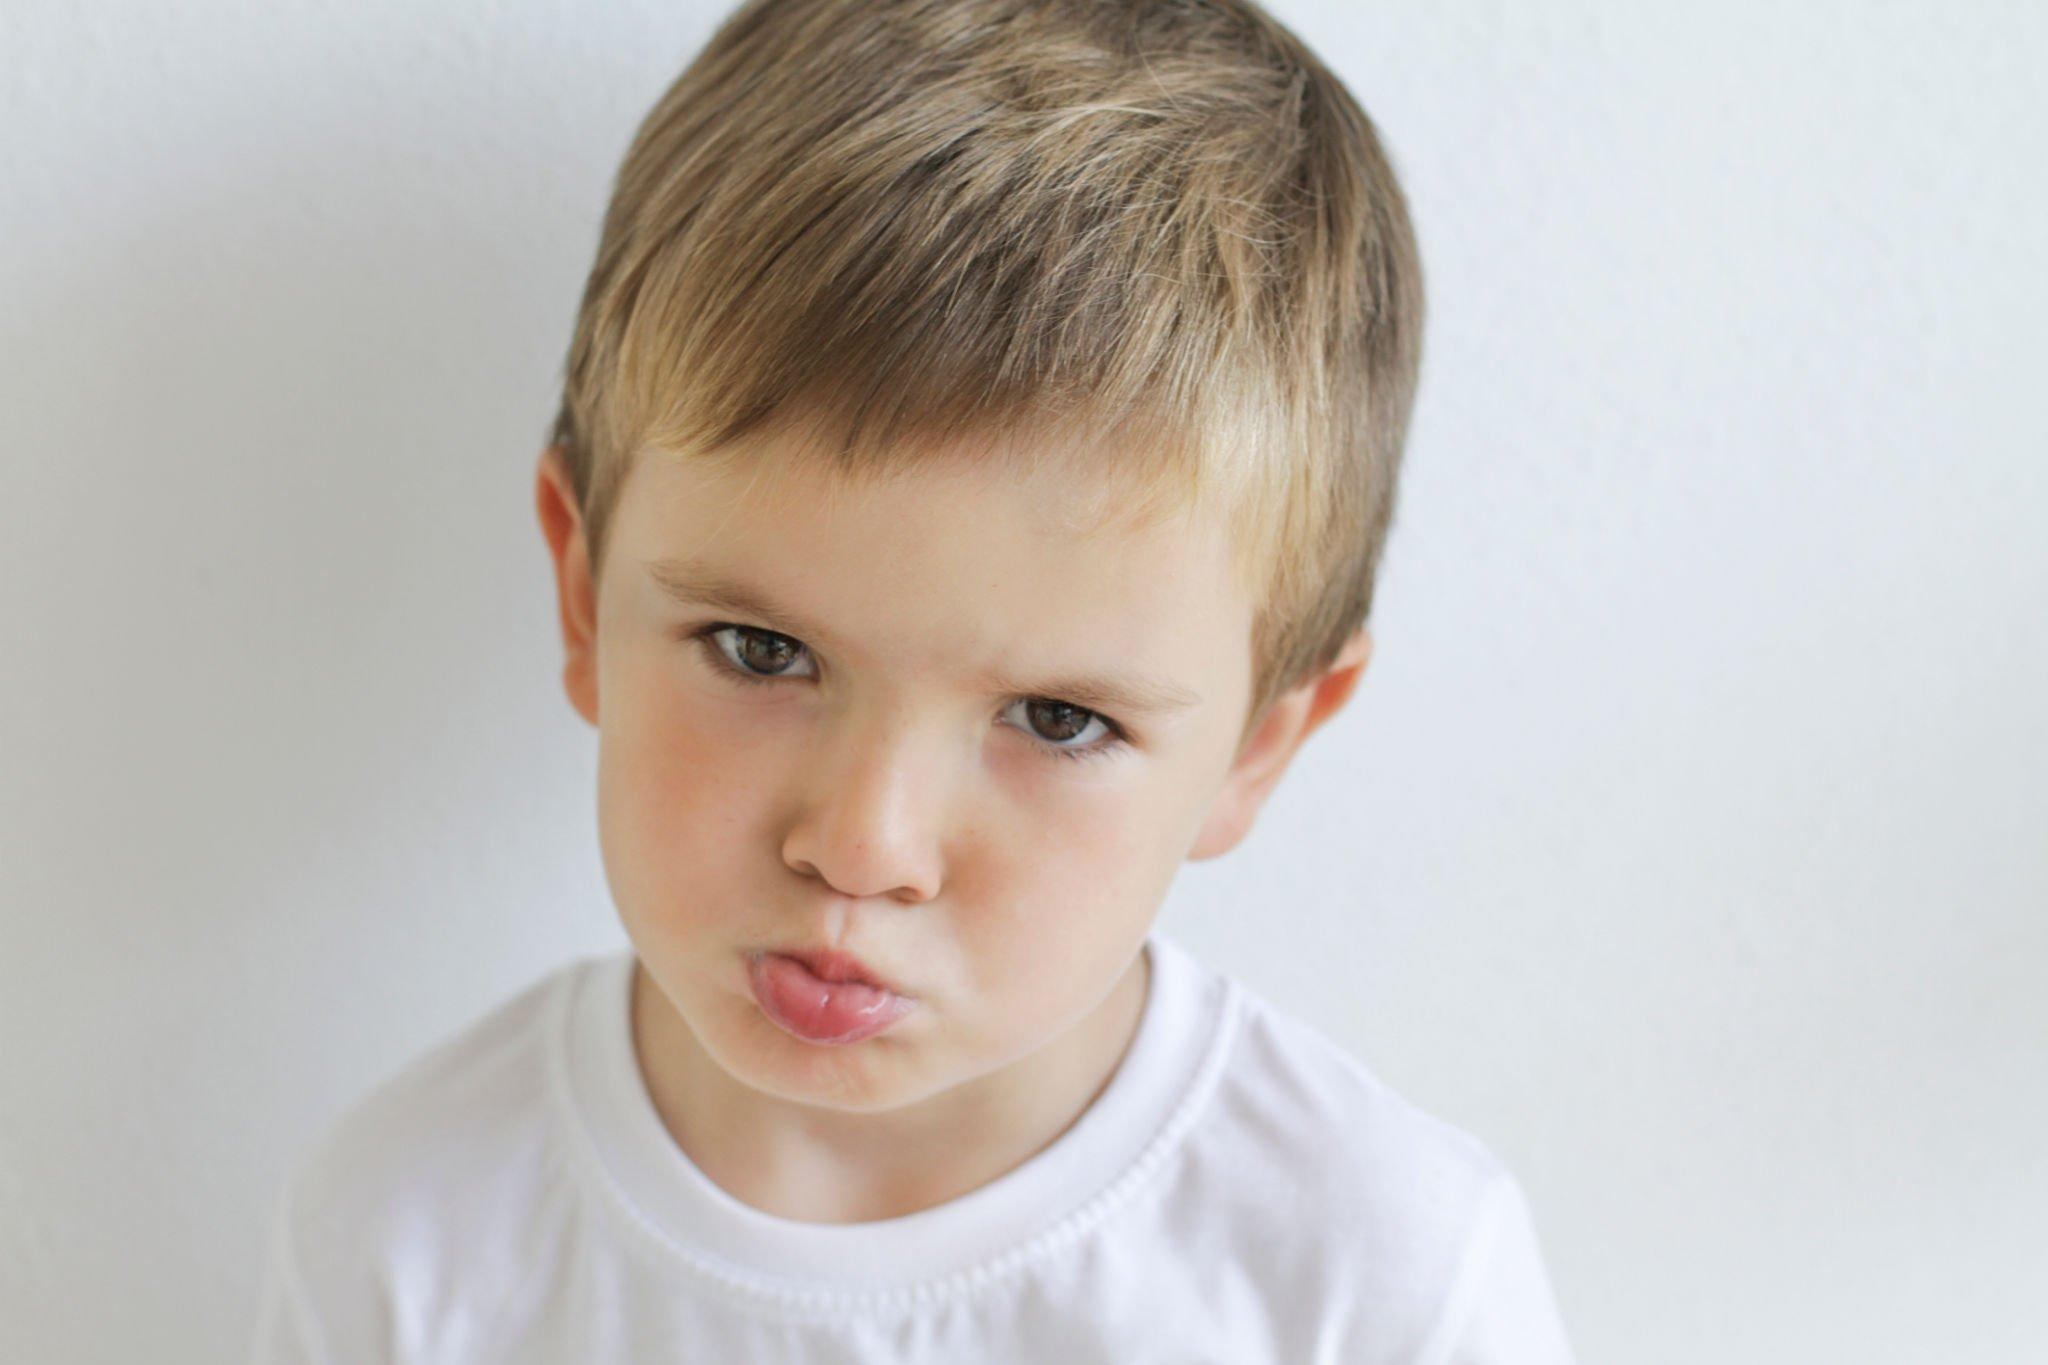Healthy: (512, 187, 1380, 1162)
